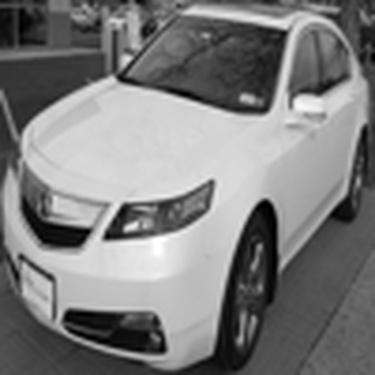car: (4, 1, 369, 372)
